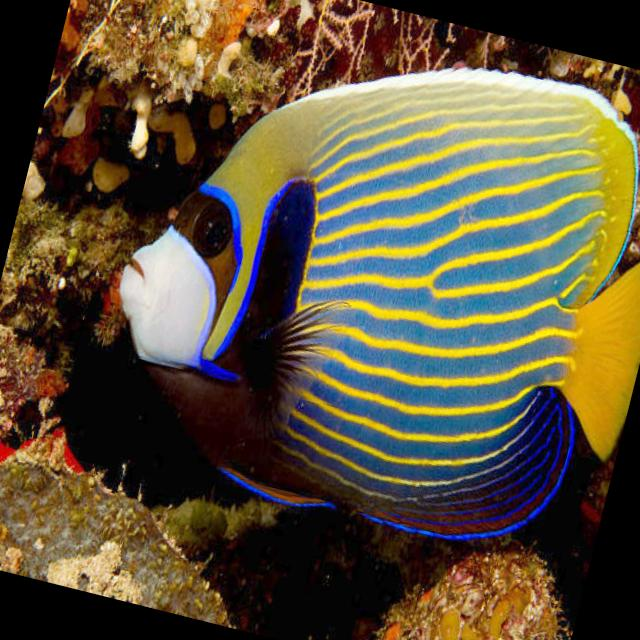AngelFish: (75, 0, 640, 582)
